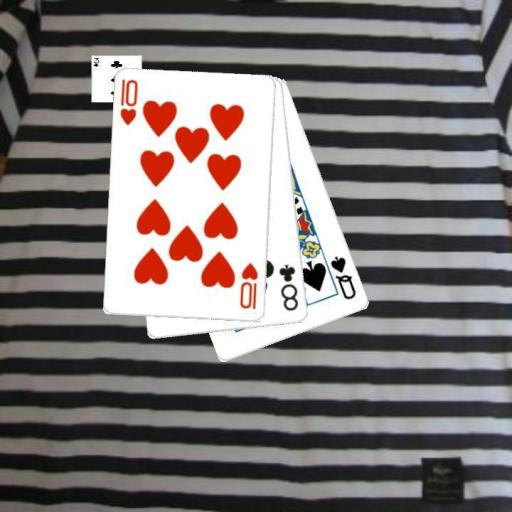card-corner: (328, 252, 358, 302), (276, 262, 300, 313), (237, 260, 260, 311), (117, 77, 140, 127)
